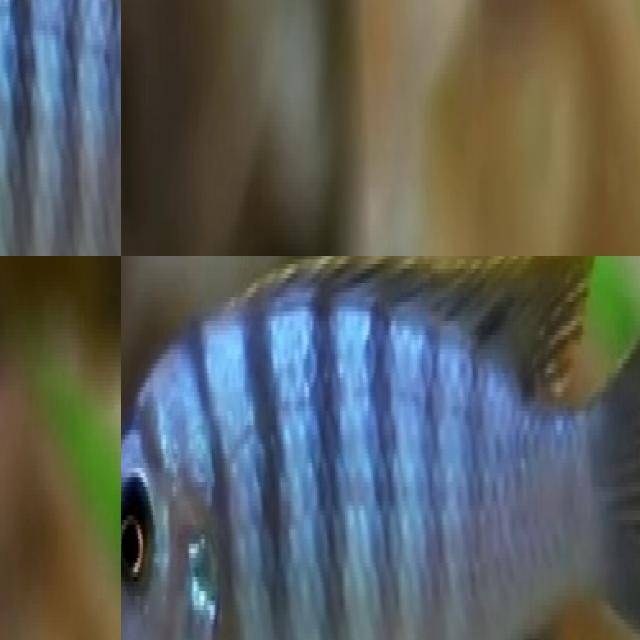fish: (121, 256, 640, 640), (0, 0, 121, 256)
